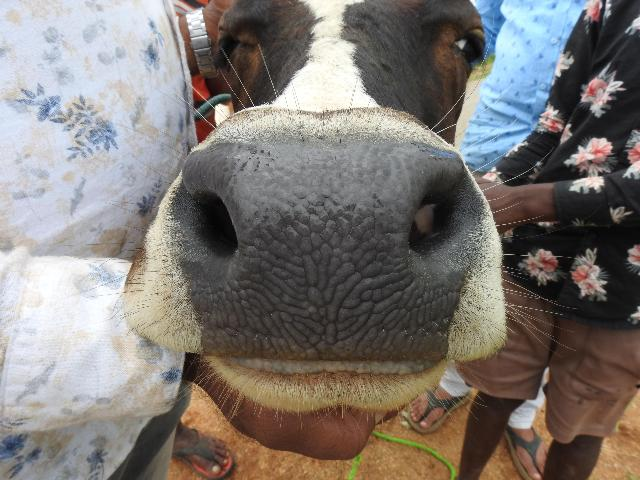Muzzle: (214, 144, 420, 368)
